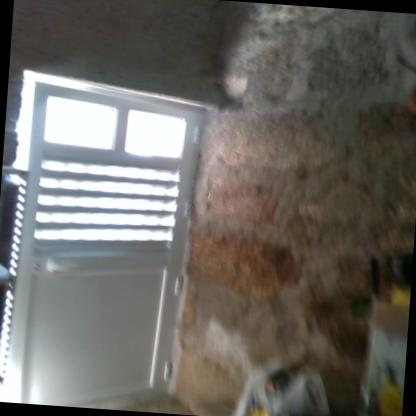closed: (0, 74, 220, 412)
